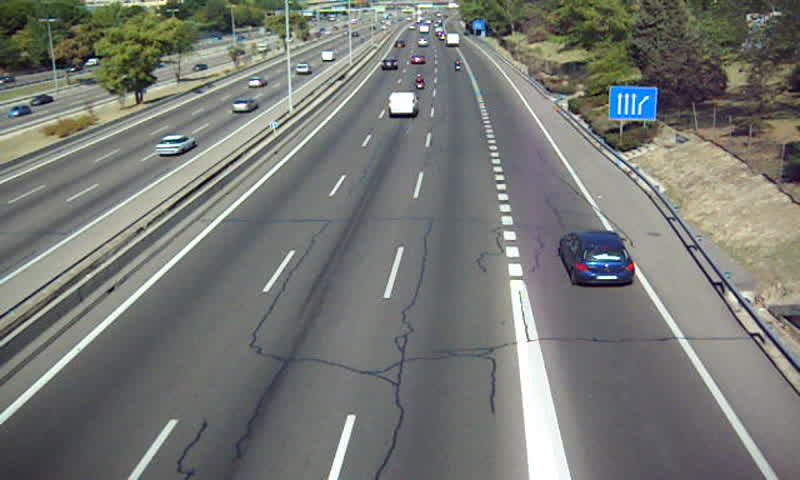car: (560, 230, 634, 284), (379, 58, 396, 70), (409, 54, 425, 66)
motorcycle: (412, 71, 425, 93), (453, 58, 463, 74)
van: (387, 92, 417, 115)
